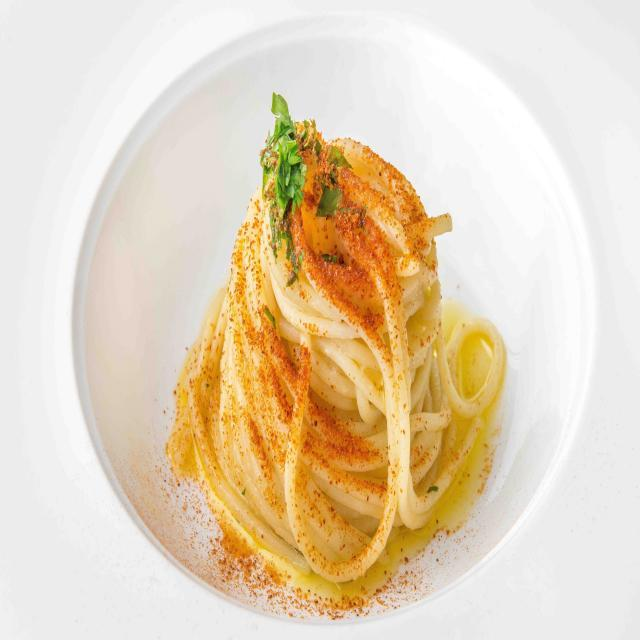Oil pasta: (147, 61, 585, 611)
